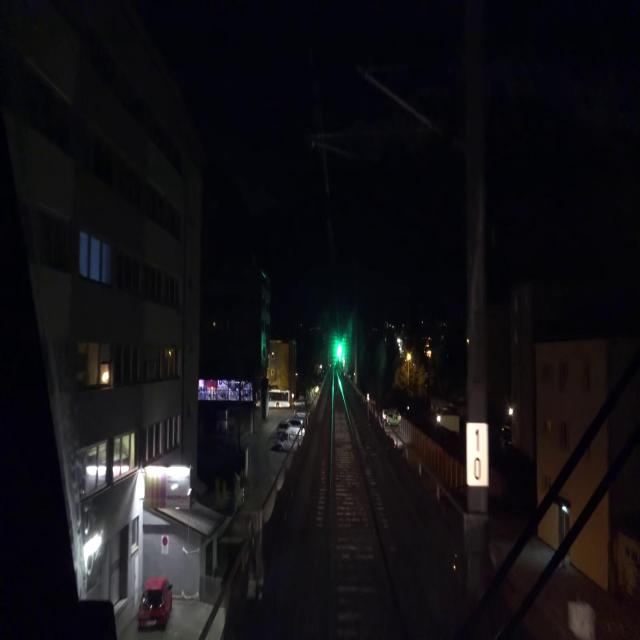rail-track: (329, 374, 403, 639)
